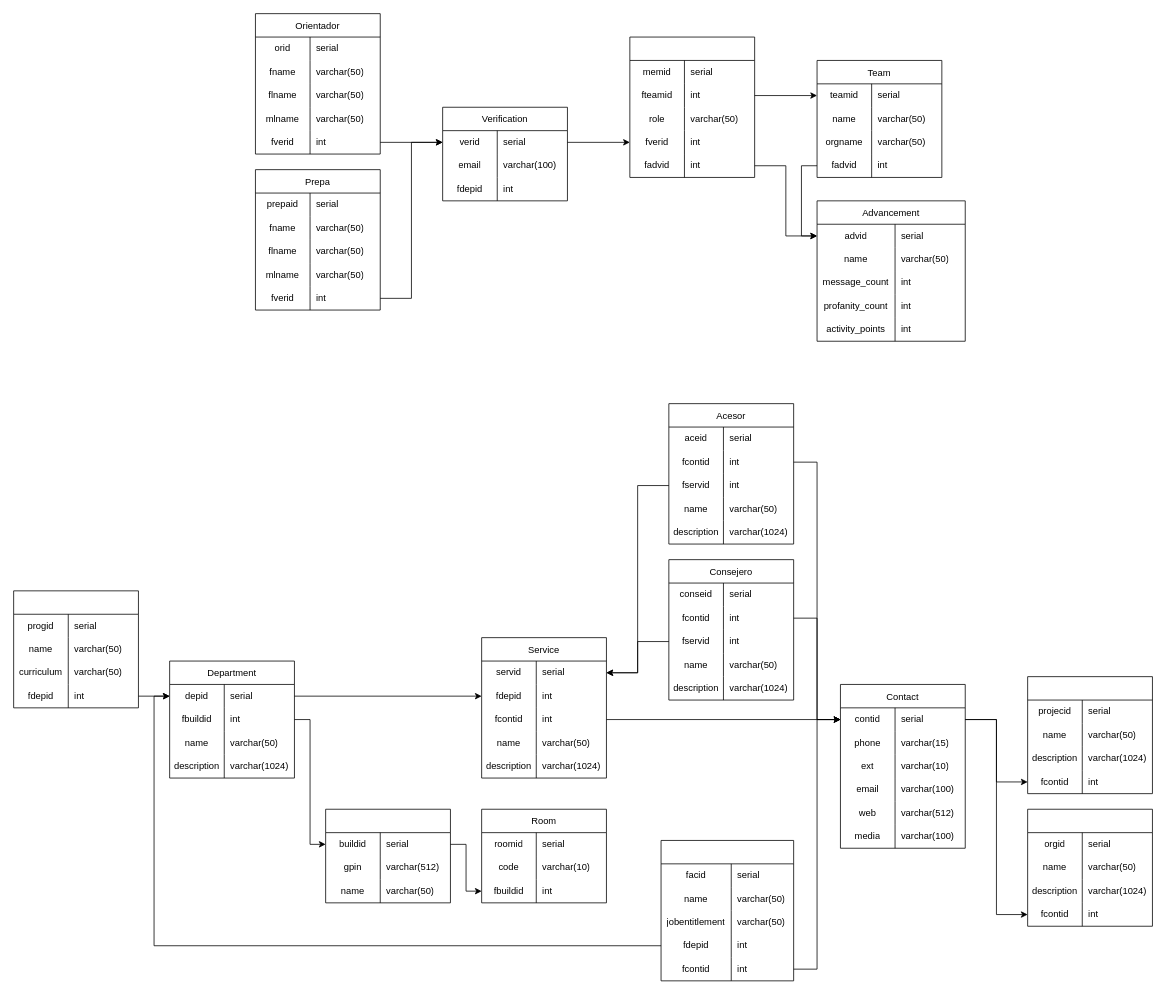
Some shapes in this 1166 by 994 pixel diagram are drawn without their labels. The shapes that lost their labels are listed below. From the top down, each one's box as (x1, y1, x2, y2) in pixels, then its label:
(629, 36, 755, 177): Member
(13, 590, 138, 708): Program
(1027, 676, 1152, 794): Project
(325, 808, 450, 903): Building
(1027, 808, 1152, 926): Organization
(660, 840, 794, 981): Faculty
